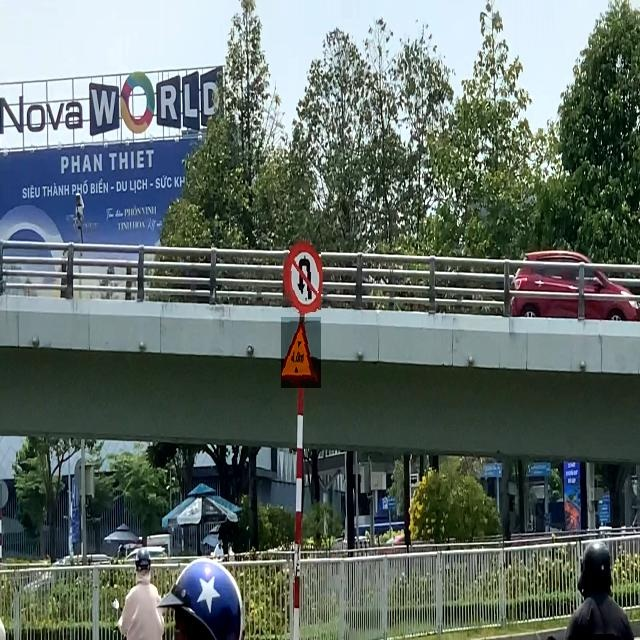bien_cam: (281, 317, 321, 388), (285, 241, 321, 312)
